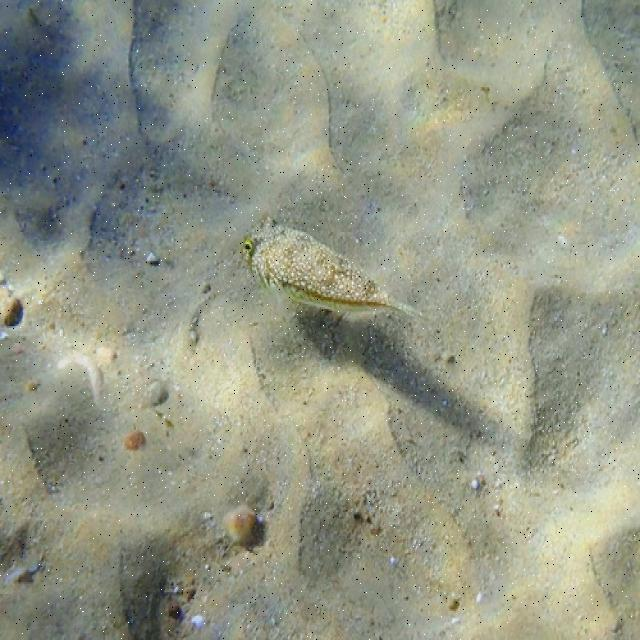Balik: (244, 217, 421, 315)
